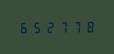eight: (83, 19, 95, 33)
five: (30, 20, 42, 34)
seven: (70, 19, 82, 33), (57, 20, 69, 33)
six: (17, 20, 29, 34)
two: (44, 20, 56, 34)
